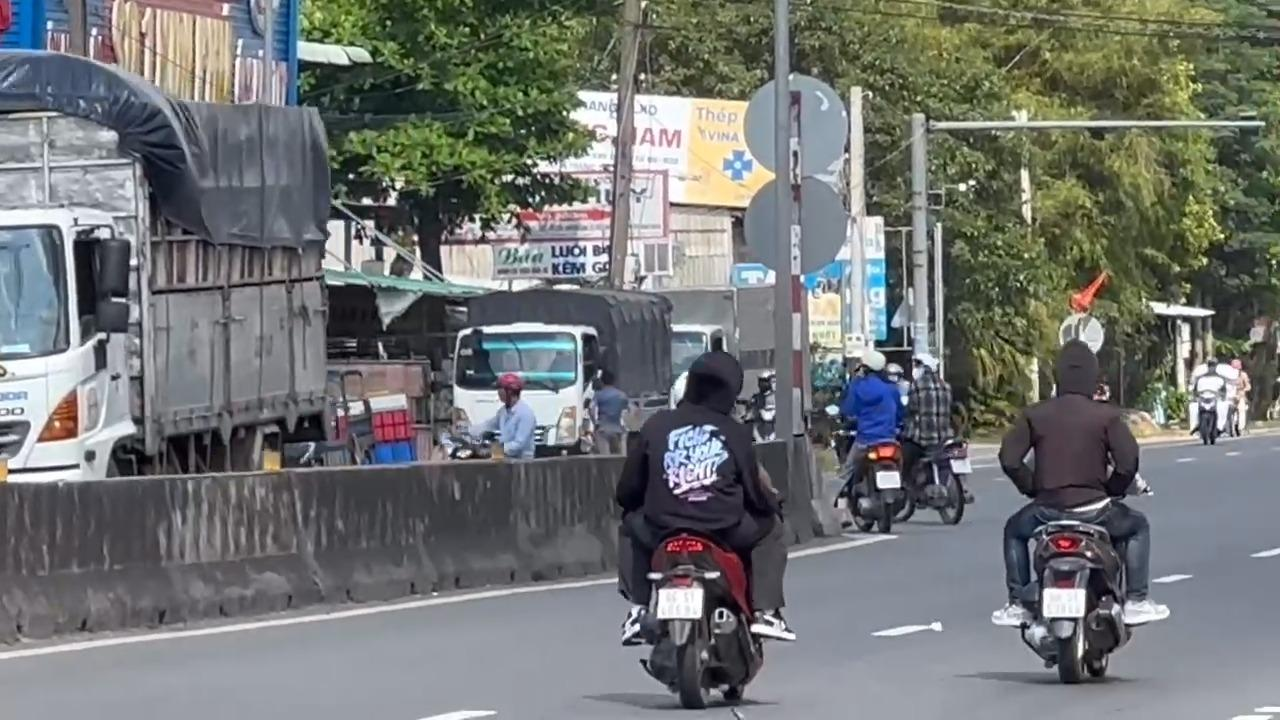bien_so: (654, 587, 706, 621), (1040, 587, 1088, 619)
